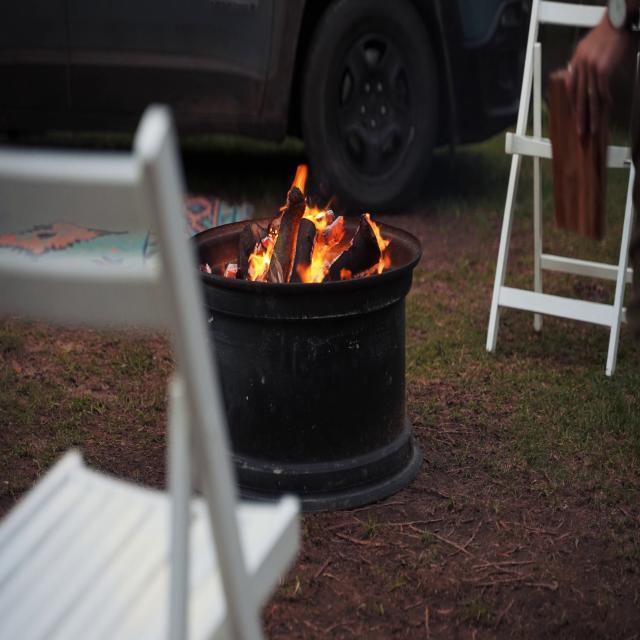Fire: (248, 165, 338, 282), (357, 198, 394, 278)
